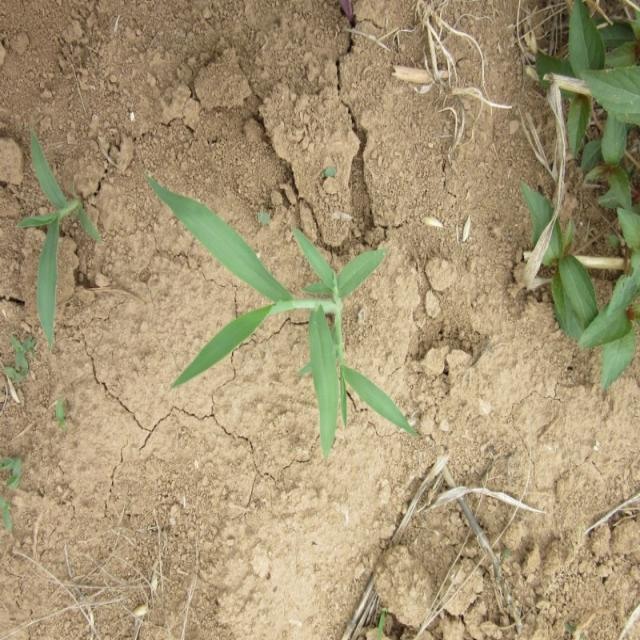bg: (144, 179, 423, 445)
